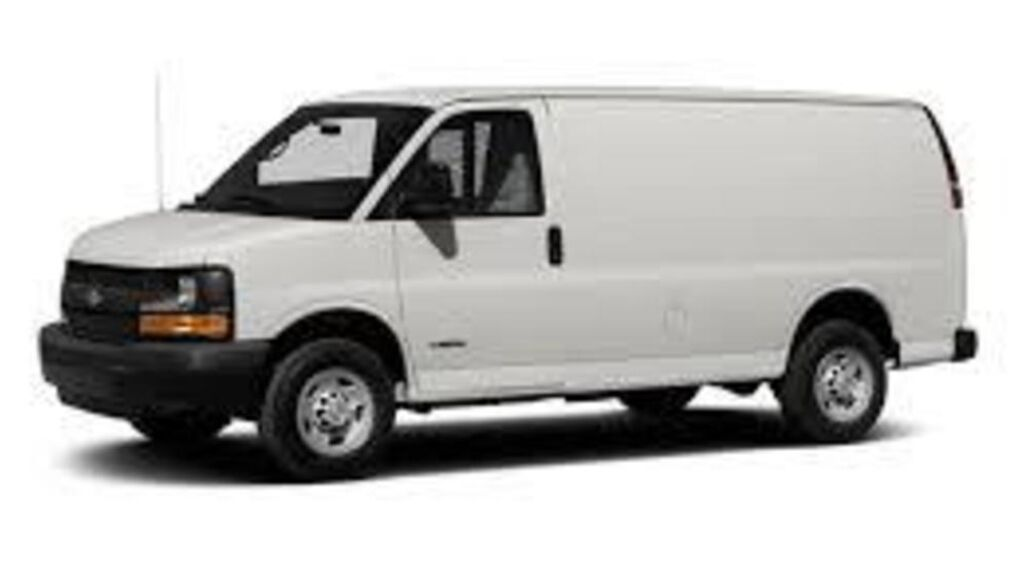van: (40, 87, 973, 483)
